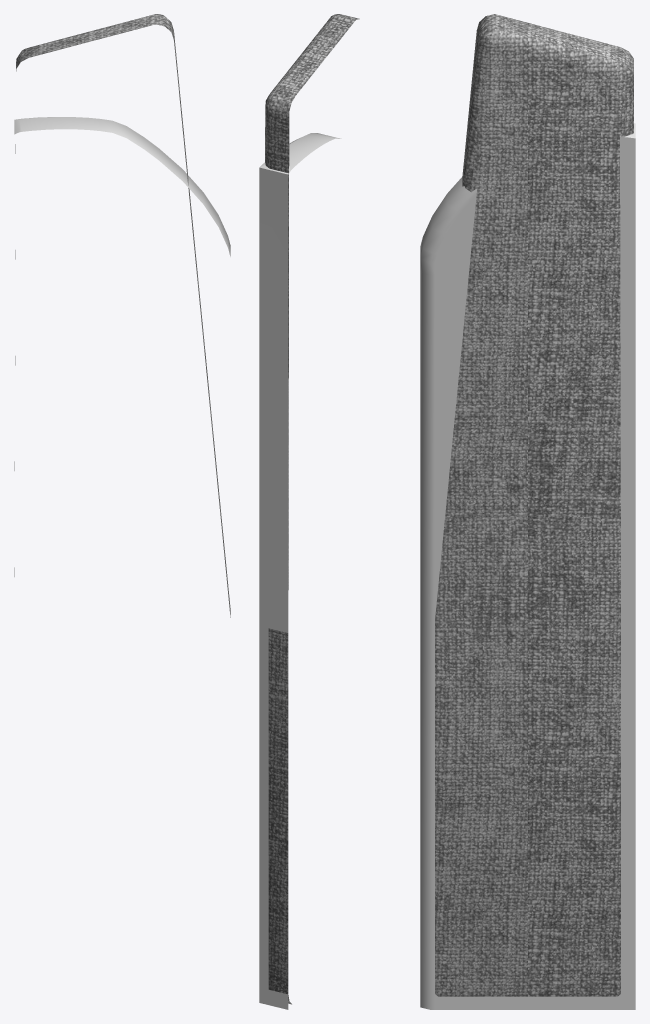
Rendered from singlebackL.gltf.
The picture shows the model from 3 angles, left to right: view 1: azimuth 90°, elevation 25°; view 2: azimuth 150°, elevation 25°; view 3: azimuth 270°, elevation 25°; orthographic projection. The views are drawn at different scales.
Parts seen in each view (by area): view 1: SingleBackL; view 2: SingleBackL; view 3: SingleBackL.
Part boxes in pixels (box(x1,y1,x2,y2)): SingleBackL: box(14, 14, 230, 617); SingleBackL: box(259, 14, 359, 1009); SingleBackL: box(420, 14, 635, 1009).
Size of the model in its own units: 0.0252 by 0.7663 by 0.1524.
2 materials, 1 textured.
